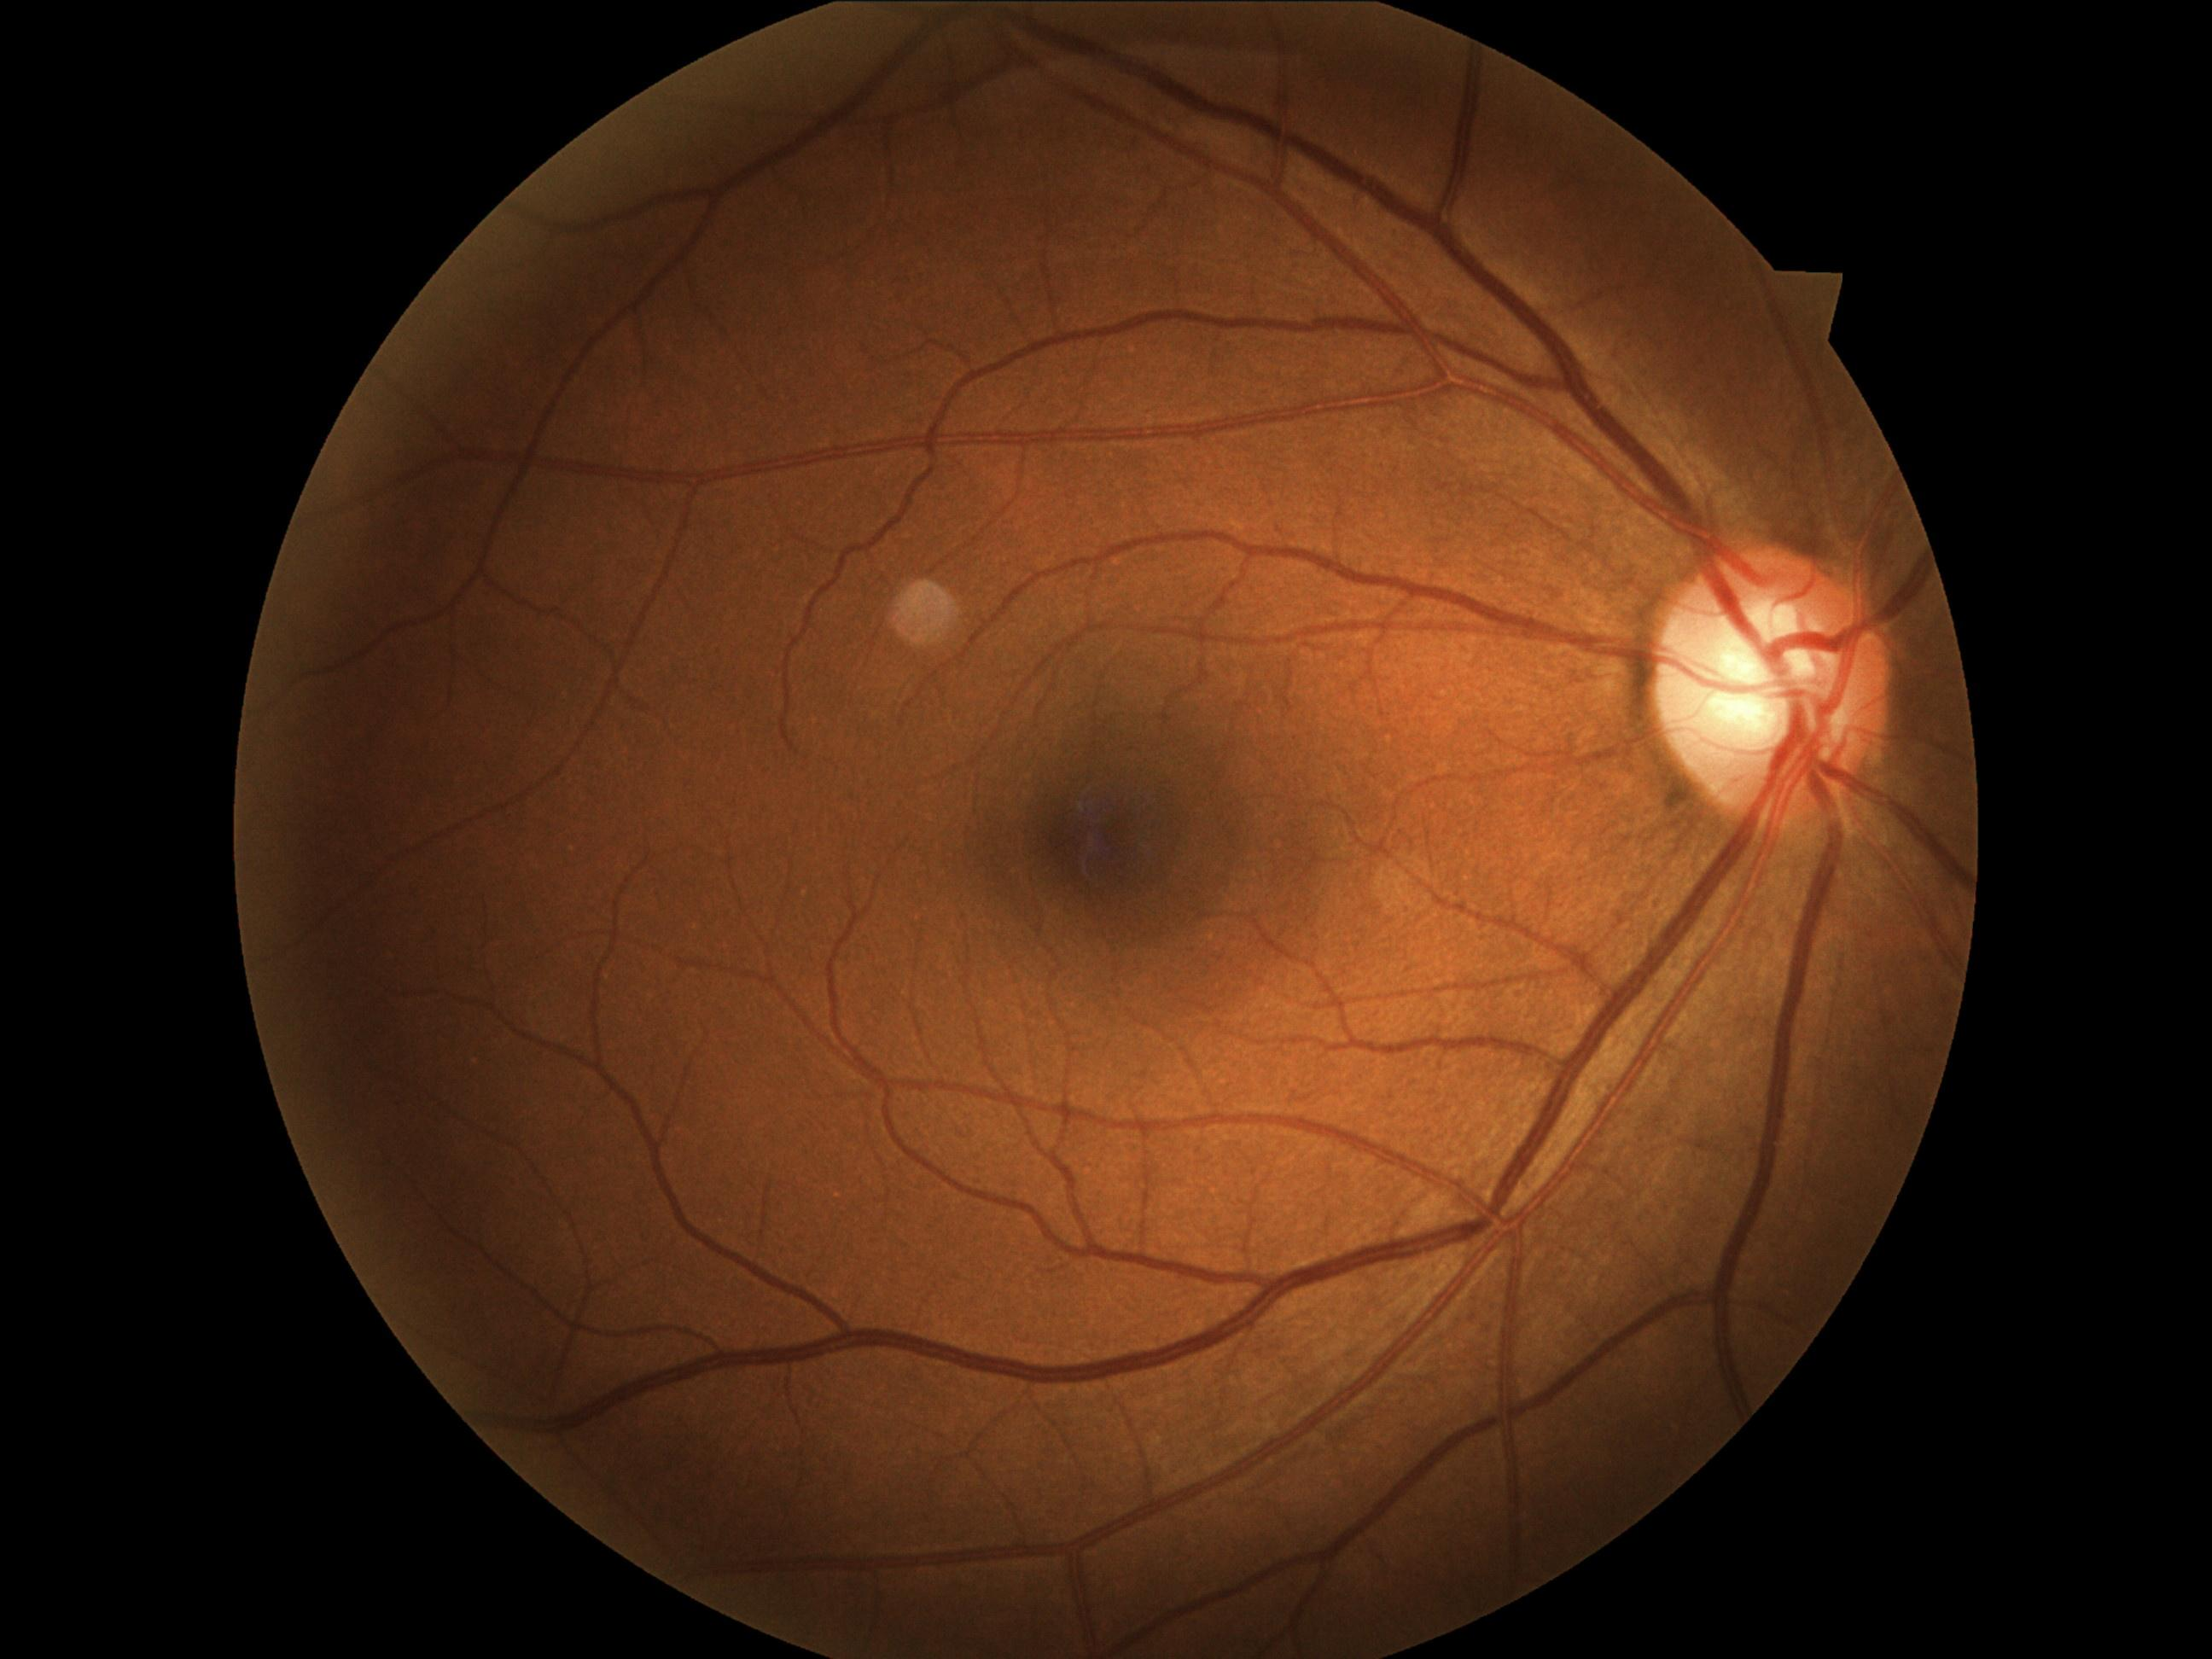Optic-nerve: (1623, 528, 1919, 849)
macula: (937, 664, 1271, 983)
notch: (1735, 234, 1886, 368)
